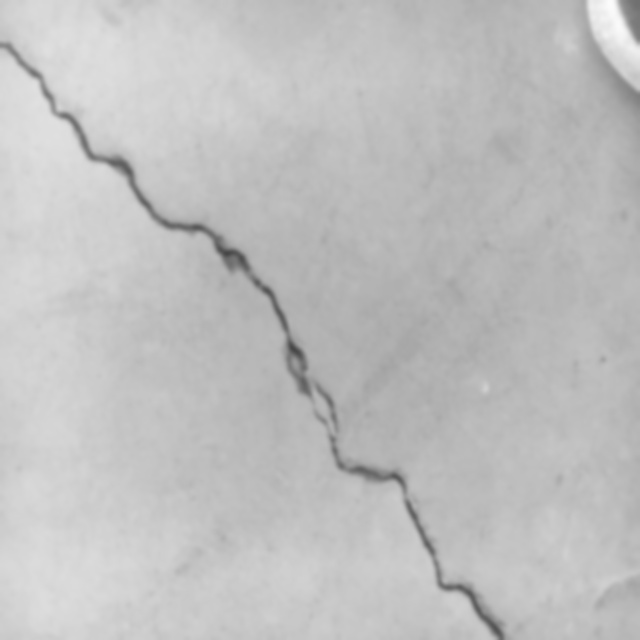SurfaceCrack: (0, 2, 570, 640)
